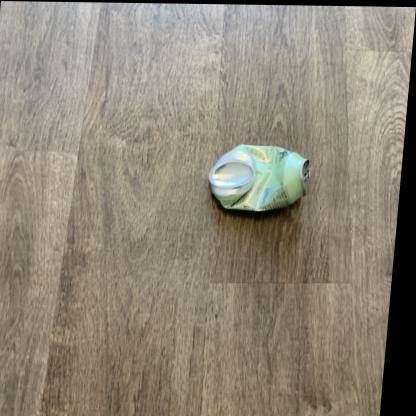trash: (209, 144, 308, 210)
